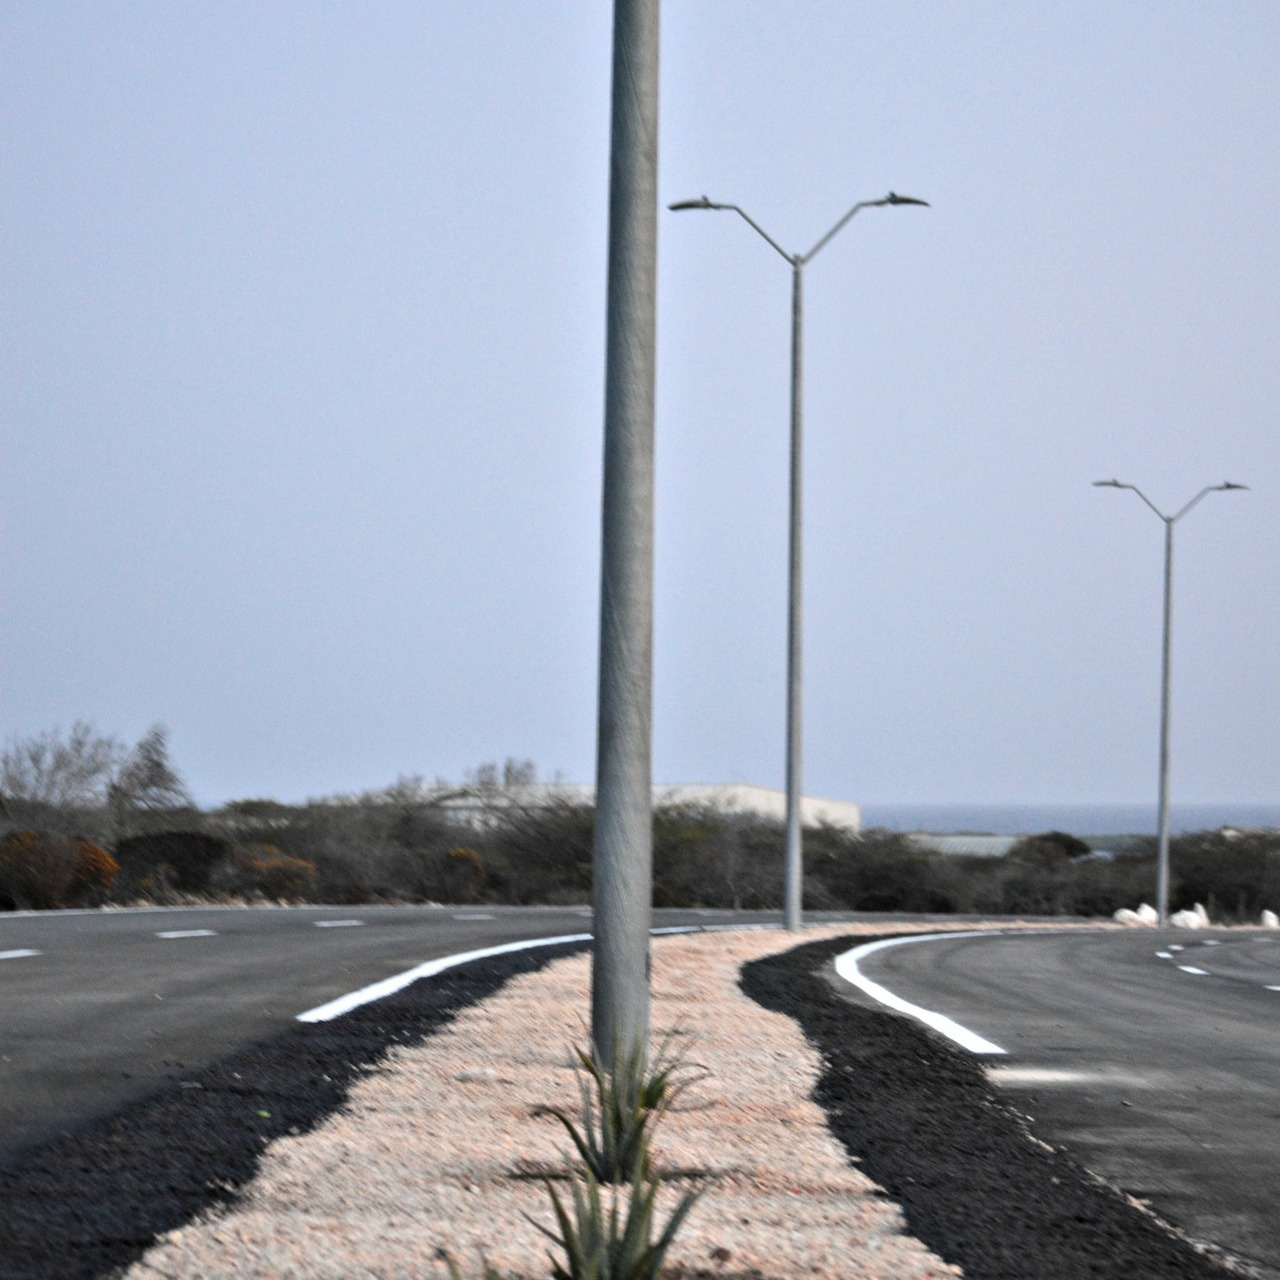pole: (666, 165, 933, 964), (570, 1, 693, 1096), (1067, 443, 1264, 944)
